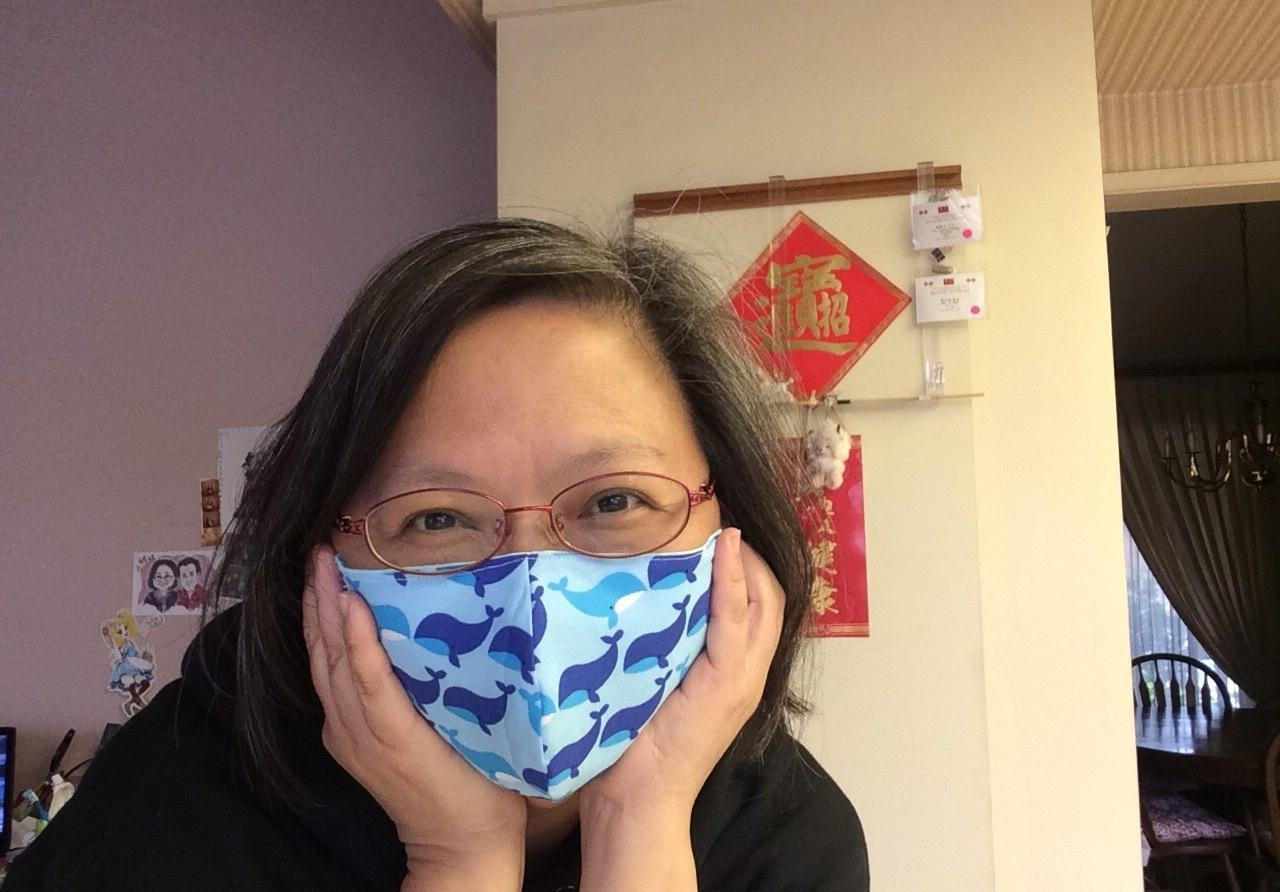Mask: (335, 433, 708, 806)
